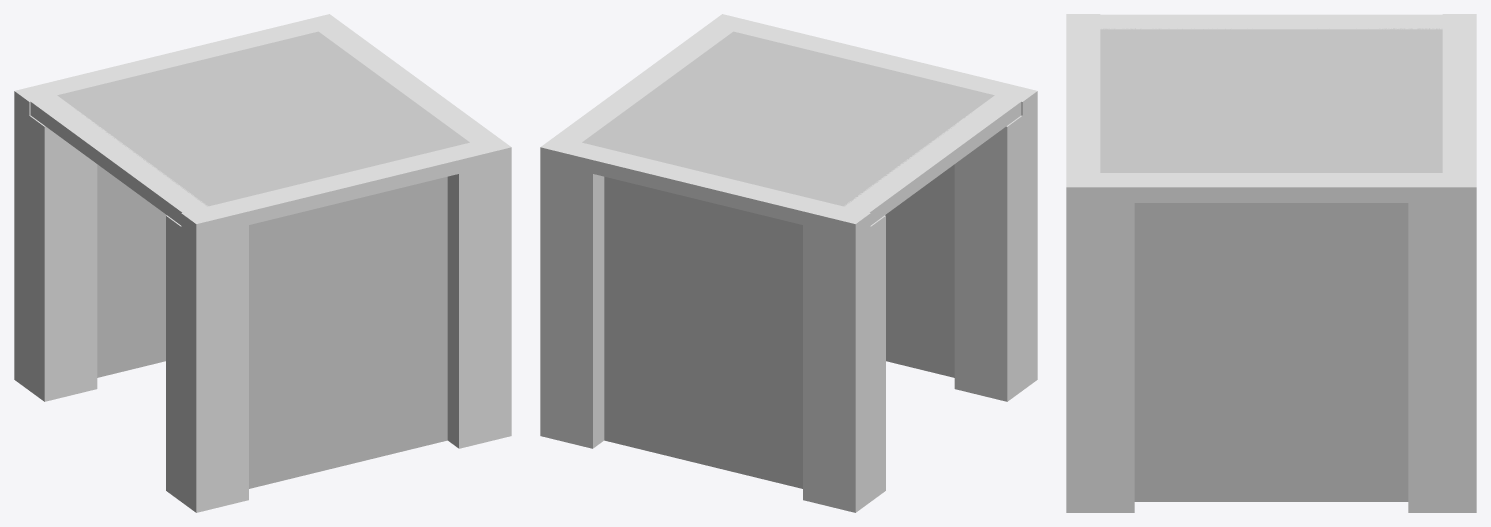
3 views of the same model, side by side, from view 1: azimuth 30°, elevation 25°; view 2: azimuth 150°, elevation 25°; view 3: azimuth 270°, elevation 25° (orthographic). The views are drawn at different scales.
Visible parts, largest first — view 1: Cube.011, Cube.008, Cube, Cube.003, Cube.001, Cube.012, Cube.004, Cube.006, Cube.005, Cube.007; view 2: Cube.012, Cube.008, Cube.003, Cube, Cube.002, Cube.011, Cube.005, Cube.006, Cube.004, Cube.007; view 3: Cube.010, Cube.008, Cube.001, Cube.002, Cube.007, Cube.004, Cube.005, Cube.006.
Boxes of the visible parts, x1,y1,x2,y2 form: Cube.011: [249, 176, 447, 488]; Cube.008: [57, 31, 469, 206]; Cube: [166, 215, 248, 512]; Cube.003: [14, 105, 97, 401]; Cube.001: [447, 161, 511, 448]; Cube.012: [97, 164, 166, 377]; Cube.004: [181, 136, 511, 237]; Cube.006: [30, 95, 208, 225]; Cube.005: [14, 14, 344, 115]; Cube.007: [319, 25, 496, 142]; Cube.012: [604, 176, 802, 488]; Cube.008: [582, 31, 994, 206]; Cube.003: [803, 215, 885, 512]; Cube: [954, 105, 1037, 401]; Cube.002: [540, 161, 604, 448]; Cube.011: [885, 164, 954, 377]; Cube.005: [540, 136, 870, 237]; Cube.006: [844, 95, 1021, 225]; Cube.004: [707, 14, 1037, 115]; Cube.007: [555, 25, 732, 142]; Cube.010: [1134, 203, 1408, 501]; Cube.008: [1100, 28, 1442, 172]; Cube.001: [1066, 203, 1134, 512]; Cube.002: [1408, 203, 1476, 512]; Cube.007: [1100, 173, 1442, 202]; Cube.004: [1066, 14, 1100, 202]; Cube.005: [1442, 14, 1476, 202]; Cube.006: [1100, 14, 1442, 29].
Bounding box in the file's own units: 12 × 10.5 × 12.
Materials: 2 (1 with a texture image).
